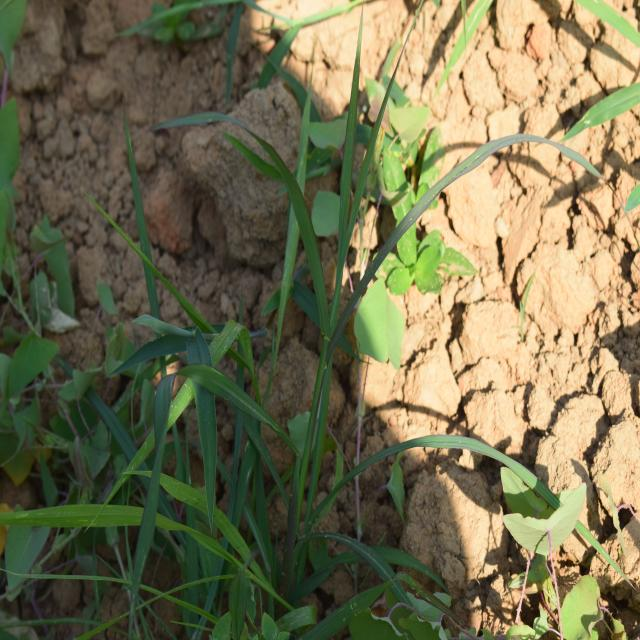green_foxtail: (132, 129, 464, 527)
